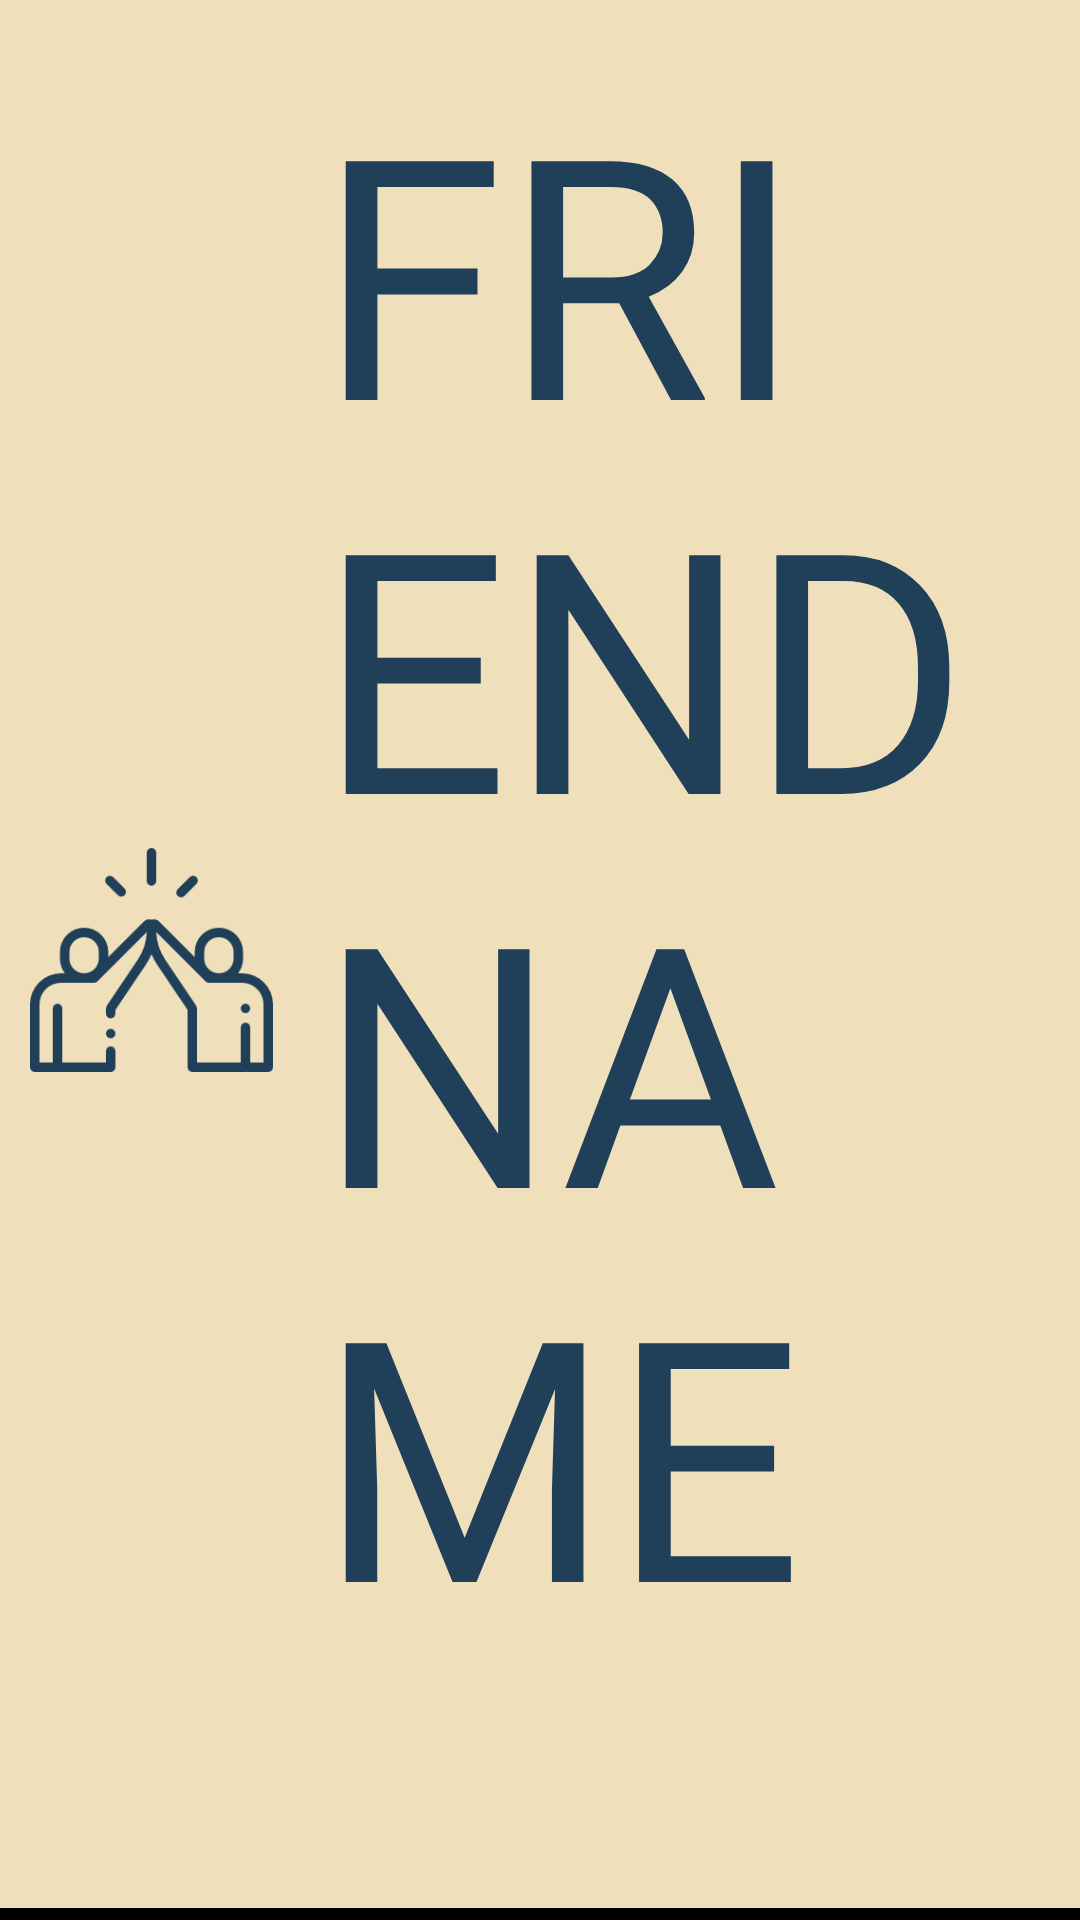

Screen size 1080px x 1920px. Icon name, then its box in pixels as Rect(x1, y1, x2, y2):
friends: Rect(30, 848, 273, 1072)
